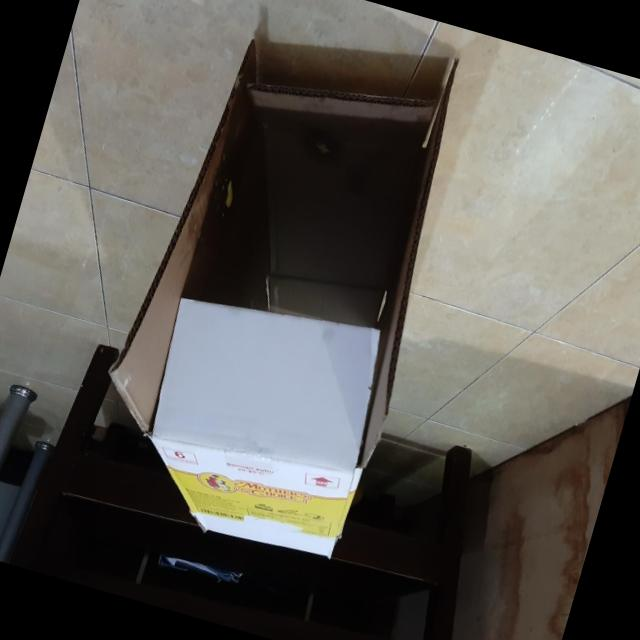Kardus: (73, 0, 488, 570)
